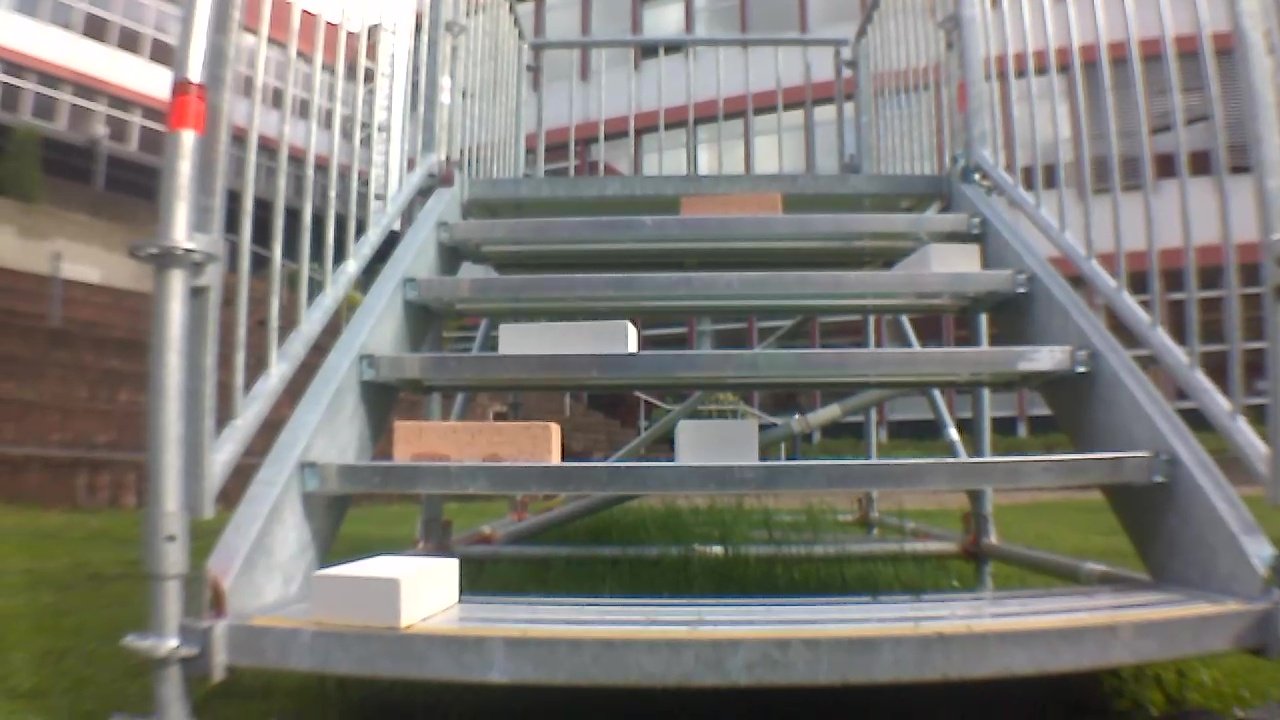brick: (312, 553, 466, 631), (389, 420, 561, 464), (499, 322, 640, 353), (674, 421, 756, 464), (887, 240, 992, 270), (674, 191, 782, 218)
edge: (229, 609, 1268, 674), (300, 453, 1173, 495), (360, 344, 1093, 379), (399, 271, 1038, 308), (427, 212, 987, 245), (458, 172, 956, 198)
stairs: (163, 0, 1280, 712)
steps: (214, 171, 1261, 687)
